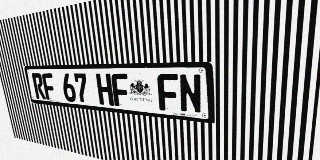6: (61, 73, 77, 102)
7: (73, 73, 90, 104)
F: (157, 74, 179, 112), (111, 73, 130, 107), (41, 73, 57, 100)
H: (96, 73, 114, 106)
N: (178, 74, 202, 114)
R: (31, 73, 46, 99)
